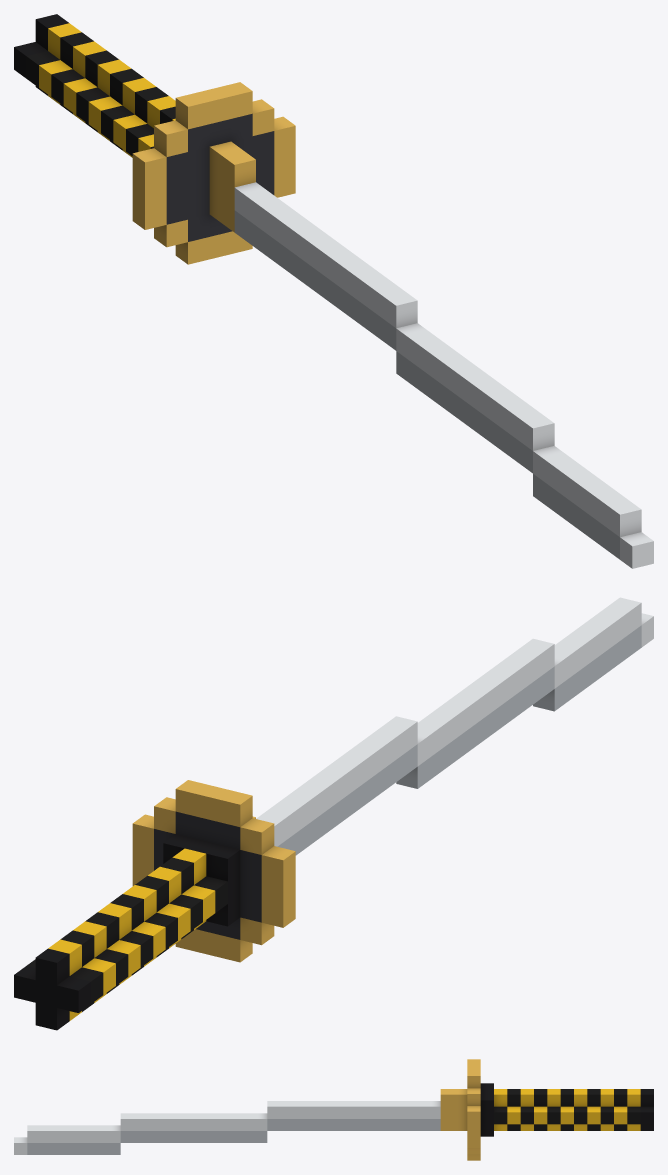
The model's file is katana.glb.
3 renders of one model, top to bottom at view 1: azimuth 30°, elevation 25°; view 2: azimuth 150°, elevation 25°; view 3: azimuth 270°, elevation 25°, orthographic. The views are drawn at different scales.
Parts seen in each view (by area): view 1: katana_body; view 2: katana_body; view 3: katana_body.
Part boxes in pixels (bbox=[...]): katana_body: bbox=[14, 14, 653, 568]; katana_body: bbox=[14, 597, 653, 1030]; katana_body: bbox=[14, 1059, 653, 1160].
Size of the model in its own units: 0.2734 by 0.2734 by 1.88.
Materials: 1 (1 with a texture image).
